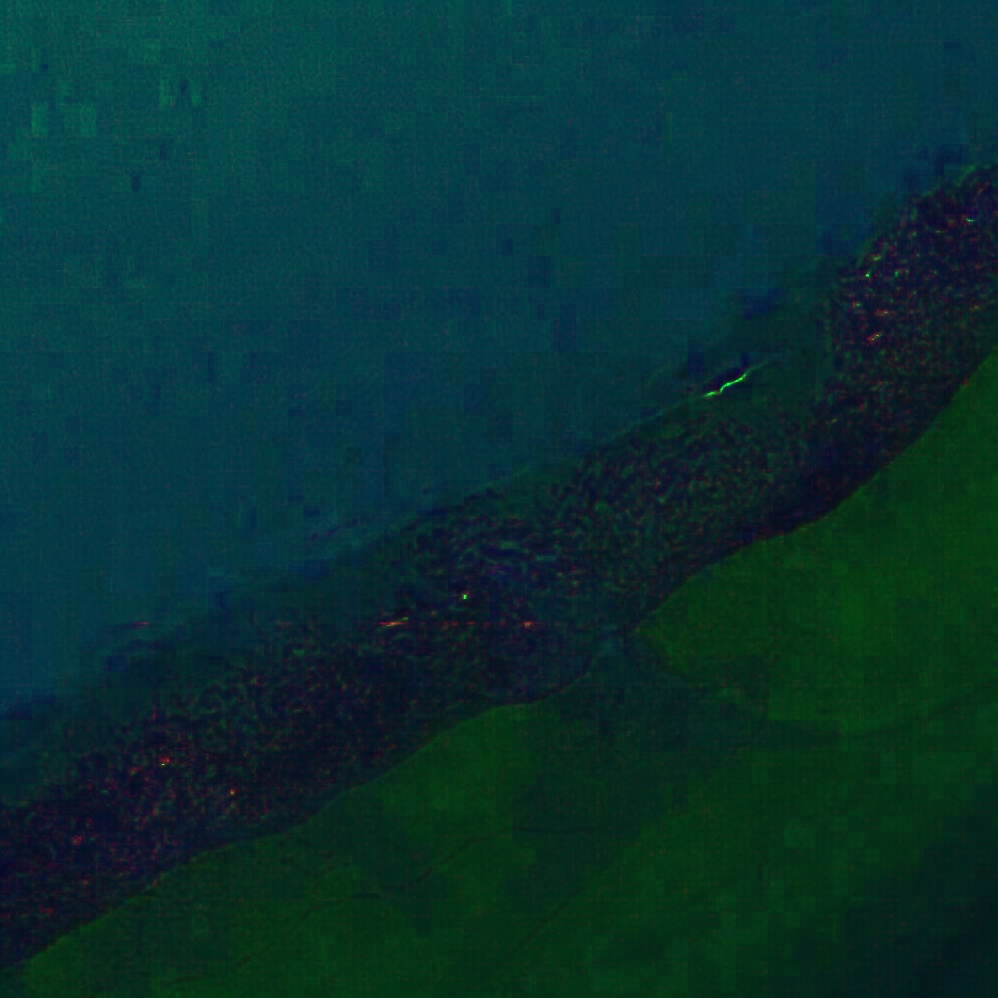rip_current: (441, 501, 627, 656)
